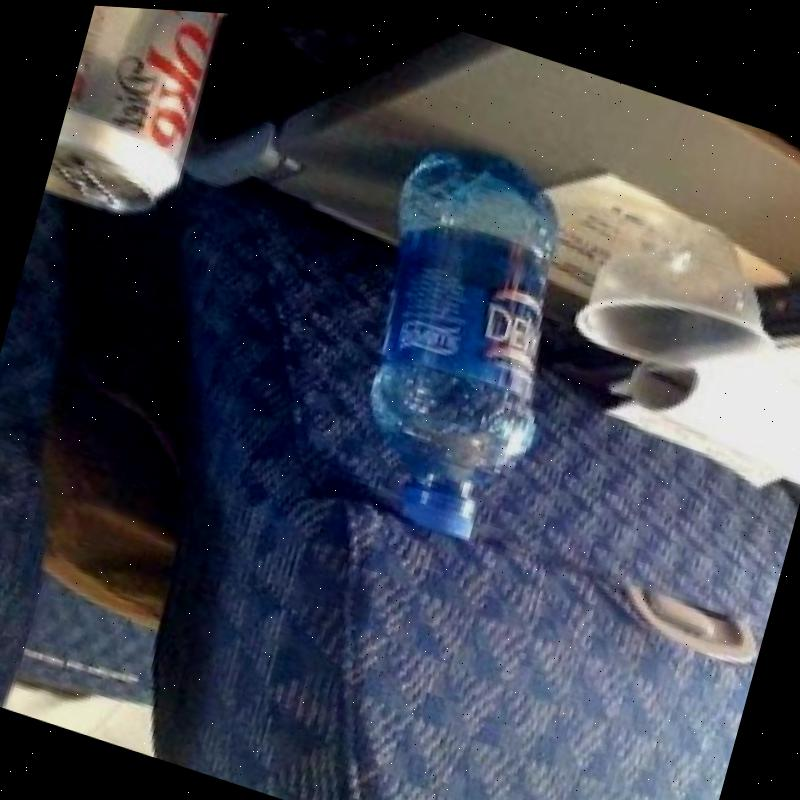botella: (318, 120, 603, 550)
